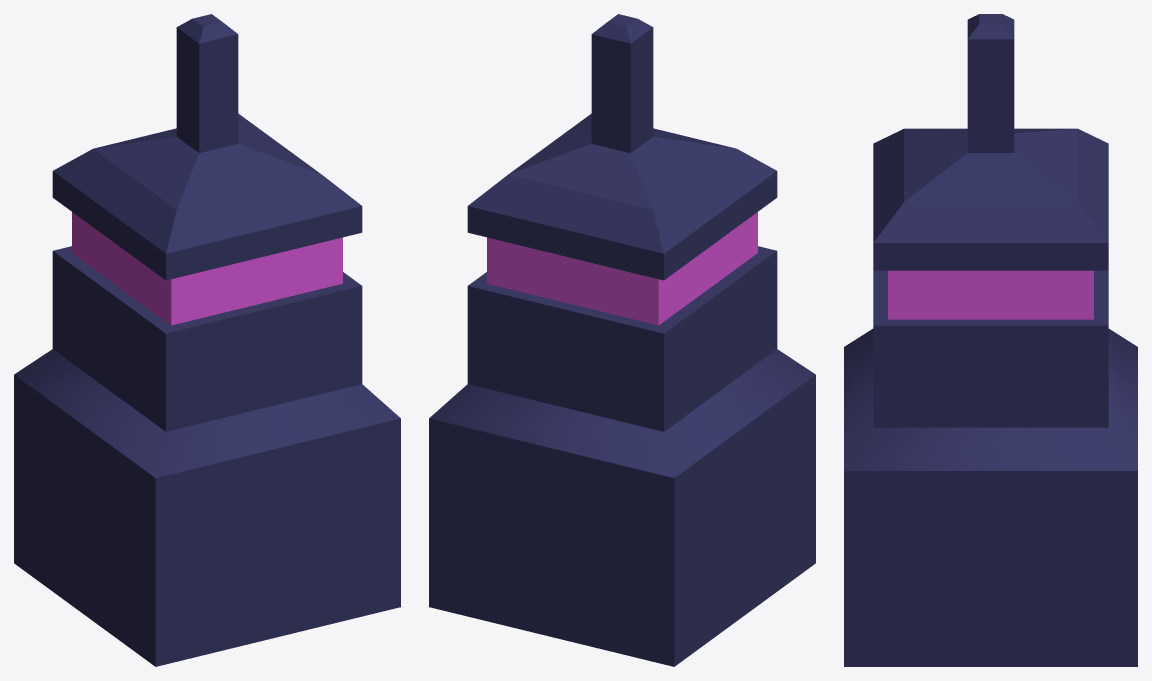
The picture shows the model from 3 angles, left to right: view 1: azimuth 30°, elevation 25°; view 2: azimuth 150°, elevation 25°; view 3: azimuth 270°, elevation 25°; orthographic projection. The views are drawn at different scales.
Visible parts, largest first — view 1: pCube41; view 2: pCube41; view 3: pCube41.
Boxes of the visible parts, x1,y1,x2,y2 form: pCube41: [14, 14, 400, 666]; pCube41: [429, 14, 815, 666]; pCube41: [844, 14, 1137, 666].
Size of the model in its own units: 1.25 by 2.75 by 1.25.
